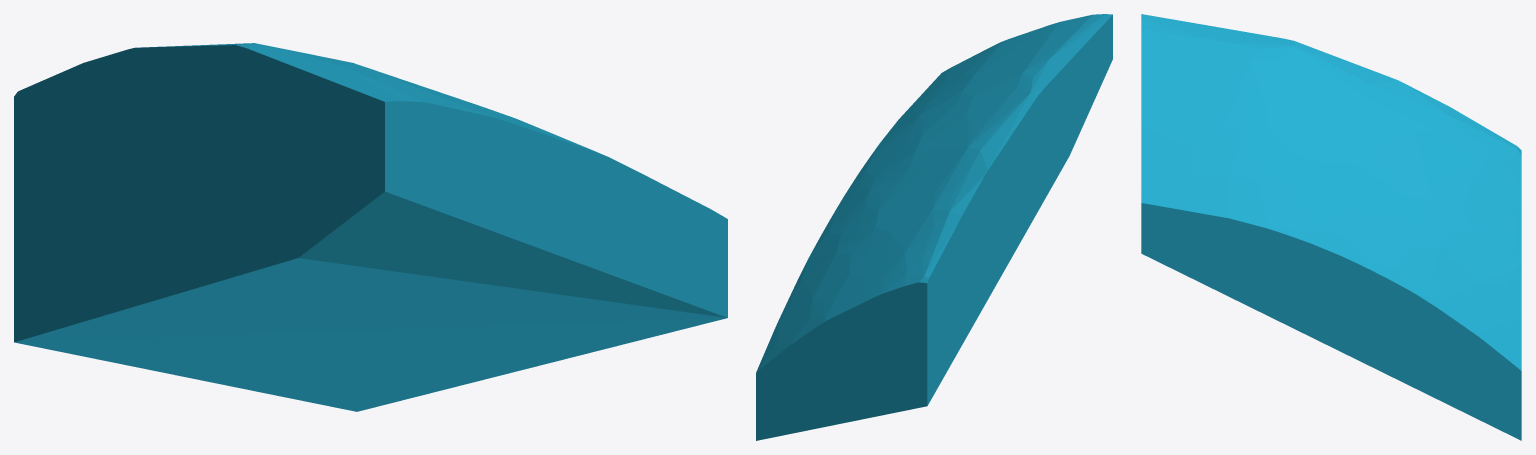
Rendered from left-shoulder-pitch-0_part_125.obj.
The picture shows the model from 3 angles, left to right: view 1: azimuth 30°, elevation 25°; view 2: azimuth 150°, elevation 25°; view 3: azimuth 270°, elevation 25°; orthographic projection. The views are drawn at different scales.
Bounding box in the file's own units: 0.0108 × 0.0199 × 0.0202.
